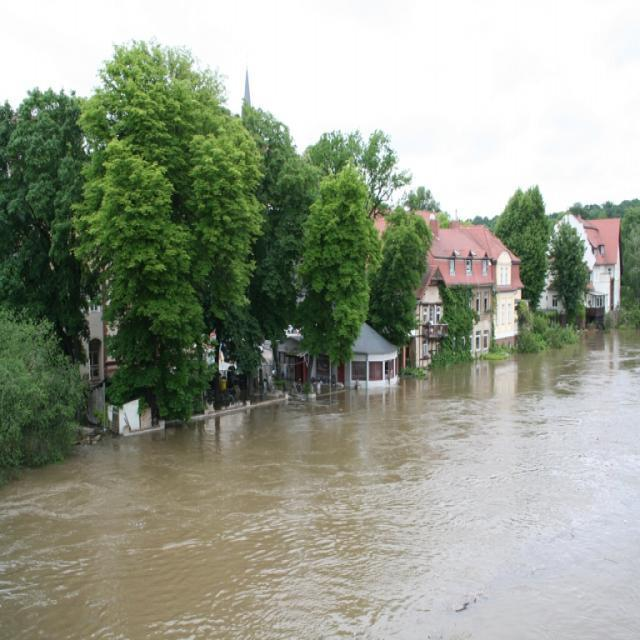flood: (0, 333, 640, 640)
house: (420, 220, 528, 370), (546, 215, 622, 318)
